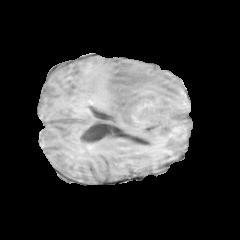glioma: (87, 64, 188, 144)
